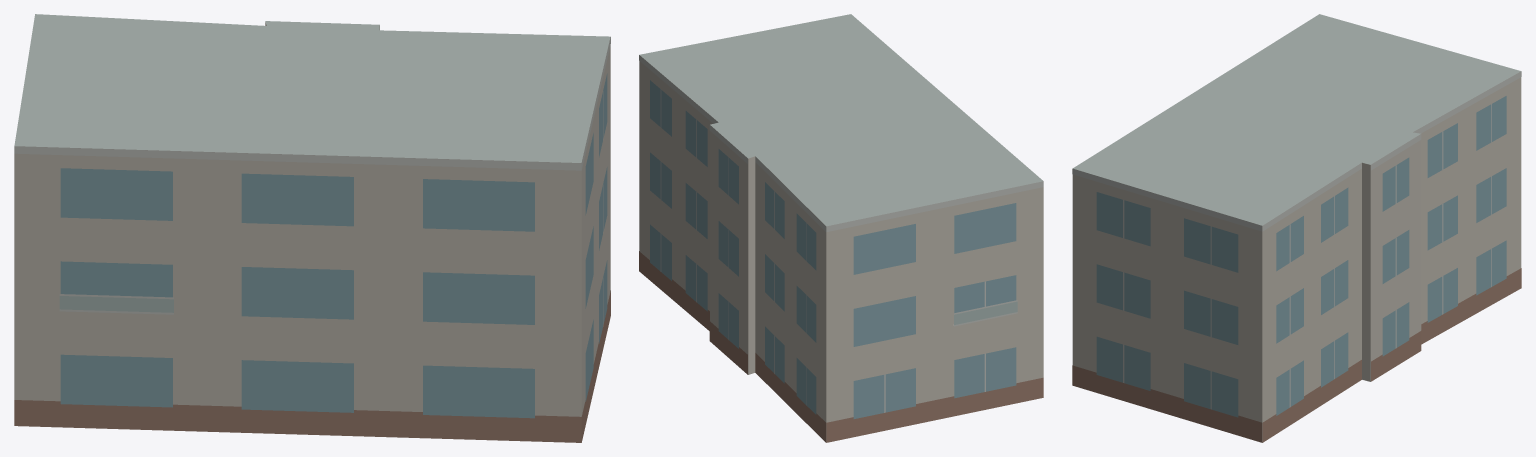
Rendered from survey-upis-32960970.glb.
3 views of the same model, side by side, from view 1: azimuth 30°, elevation 25°; view 2: azimuth 150°, elevation 25°; view 3: azimuth 270°, elevation 25° (orthographic). The views are drawn at different scales.
Parts seen in each view (by area): view 1: survey-upis-32960970.tmp; view 2: survey-upis-32960970.tmp; view 3: survey-upis-32960970.tmp.
Part boxes in pixels (left/top/right/bottom): survey-upis-32960970.tmp: left=14, top=14, right=610, bottom=442; survey-upis-32960970.tmp: left=639, top=14, right=1043, bottom=442; survey-upis-32960970.tmp: left=1072, top=14, right=1521, bottom=442.
Size of the model in its own units: 18.84 by 9 by 16.88.
